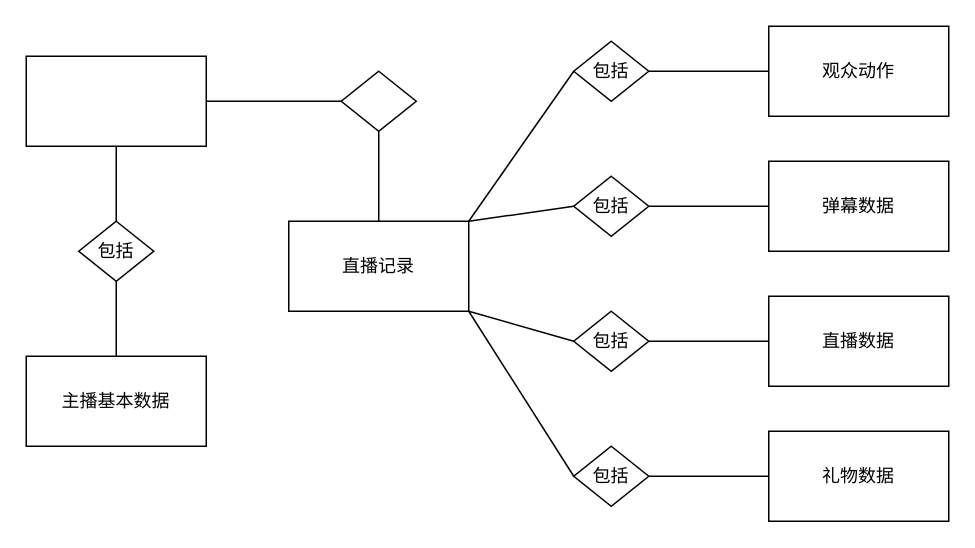
Image size: 975x548. Some labels were removed from this diagram. Each missing label, with the centre of its shape:
"主播基本信息" goes at pixel 115 100.
"对应" goes at pixel 378 100.
